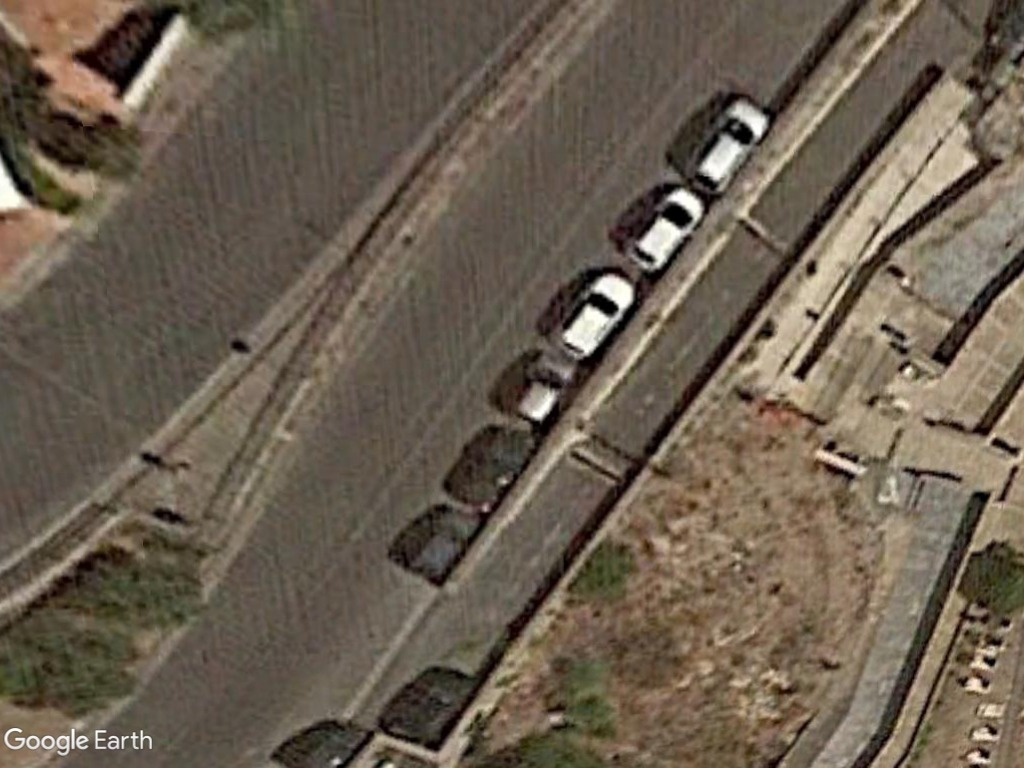car: (683, 95, 772, 194), (551, 269, 637, 360), (624, 187, 708, 274)
